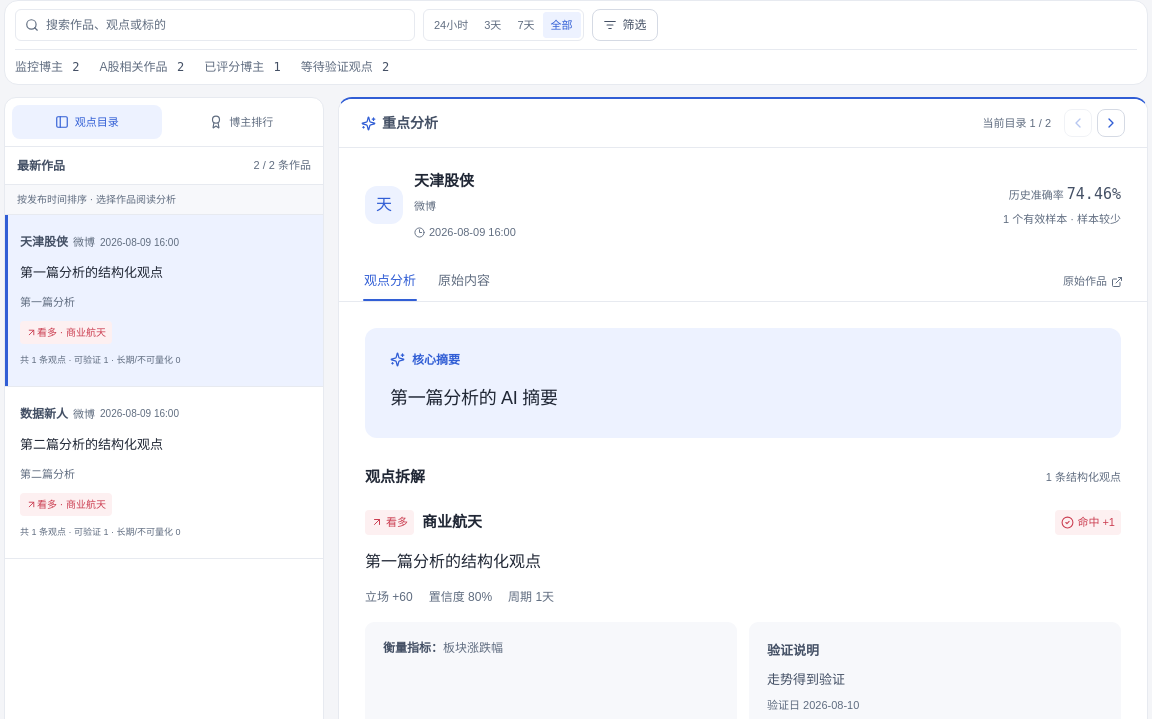
CreatorInsightsView › moves between analyses with bounded previous and next controls
Expected: the button named "上一篇分析" is disabled, x1=1064 y1=109 x2=1092 y2=137
Step 1. Click the button named "下一篇分析" → (1111, 123), box x1=1097 y1=109 x2=1125 y2=137
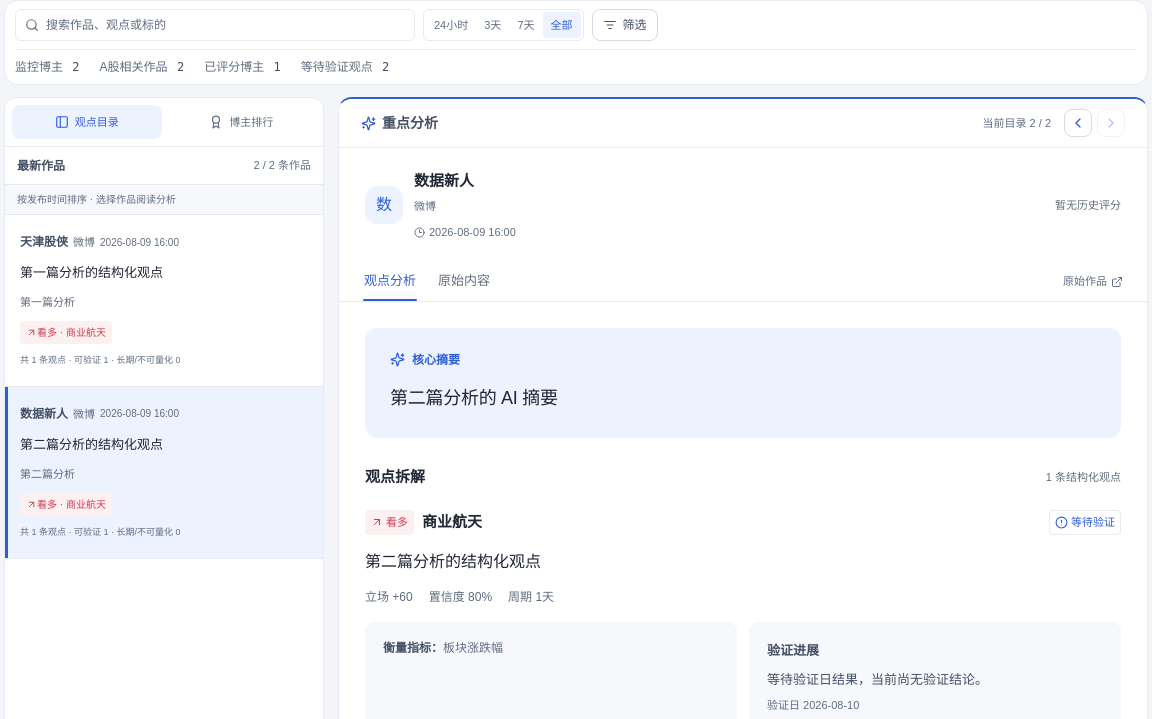
Now the element with class "creator-ai-summary" shows "第二篇分析的 AI 摘要", box x1=390 y1=388 x2=558 y2=408
Step 2. Click the button named "上一篇分析" → (1078, 123), box x1=1064 y1=109 x2=1092 y2=137
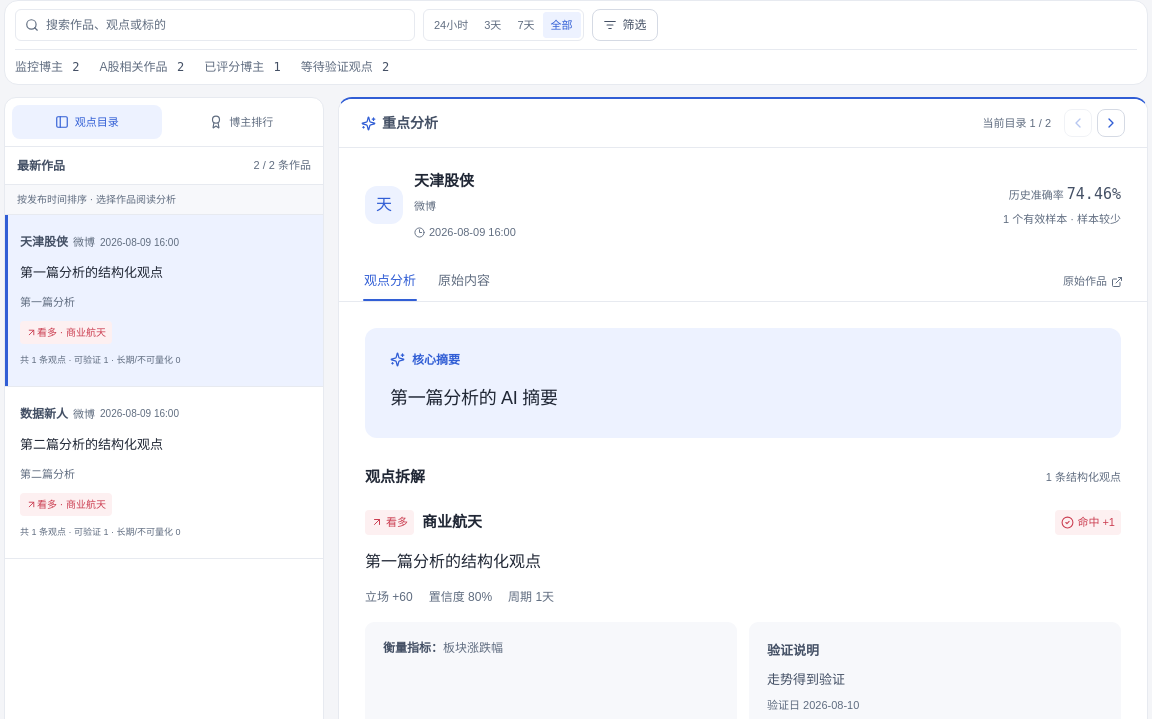
Now the element with class "creator-ai-summary" shows "第一篇分析的 AI 摘要", box x1=390 y1=388 x2=558 y2=408
